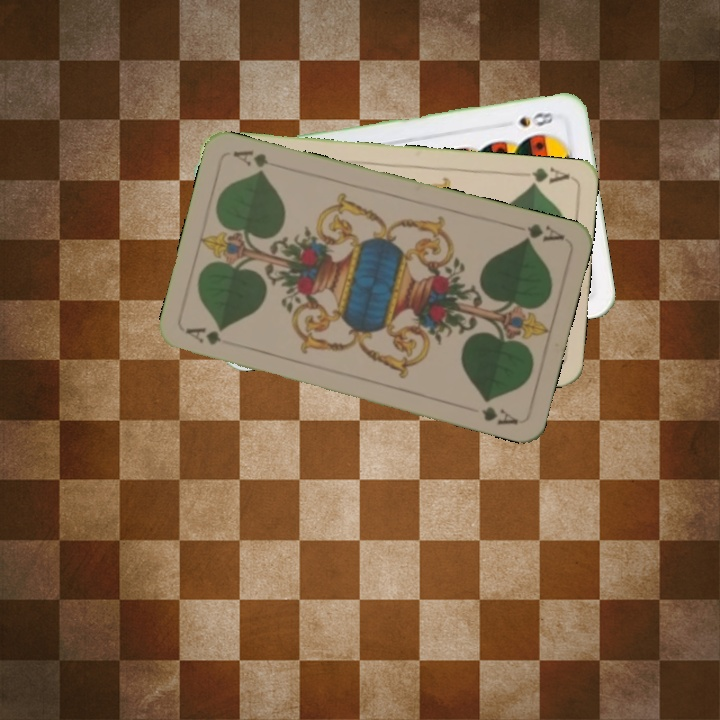GA: (520, 219, 568, 245), (525, 164, 572, 190), (182, 323, 224, 348)
S8: (515, 108, 556, 130)
